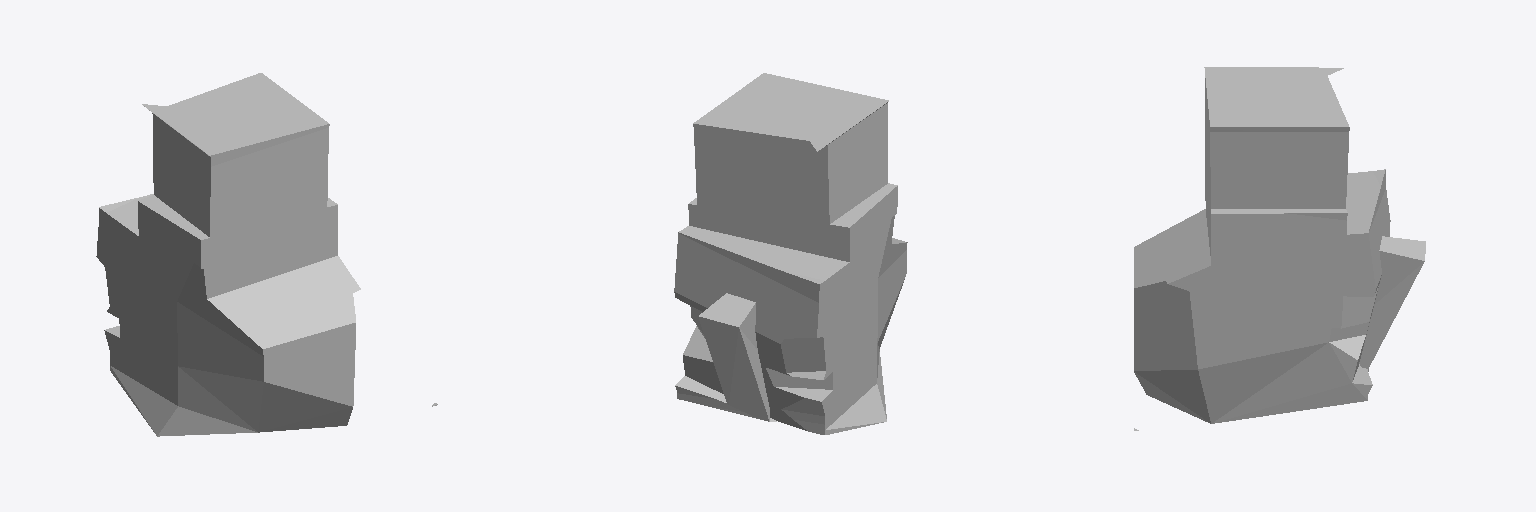
The model's file is head.obj.
The picture shows the model from 3 angles: view 1: azimuth 30°, elevation 25°; view 2: azimuth 150°, elevation 25°; view 3: azimuth 270°, elevation 25°; orthographic projection.
Visible parts, largest first — view 1: Cube; view 2: Cube; view 3: Cube.
Part boxes in pixels (bbox=[...]): Cube: bbox=[96, 73, 437, 436]; Cube: bbox=[674, 73, 907, 434]; Cube: bbox=[1134, 67, 1425, 430].
Size of the model in its own units: 1.69 by 2.19 by 1.96.